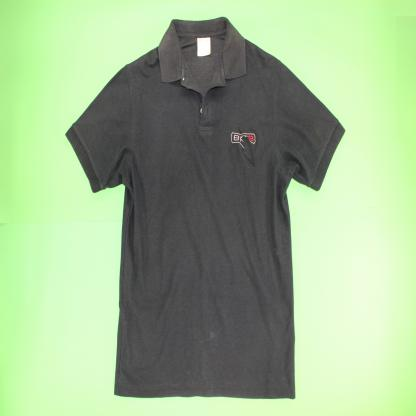hole: (235, 123, 256, 169)
